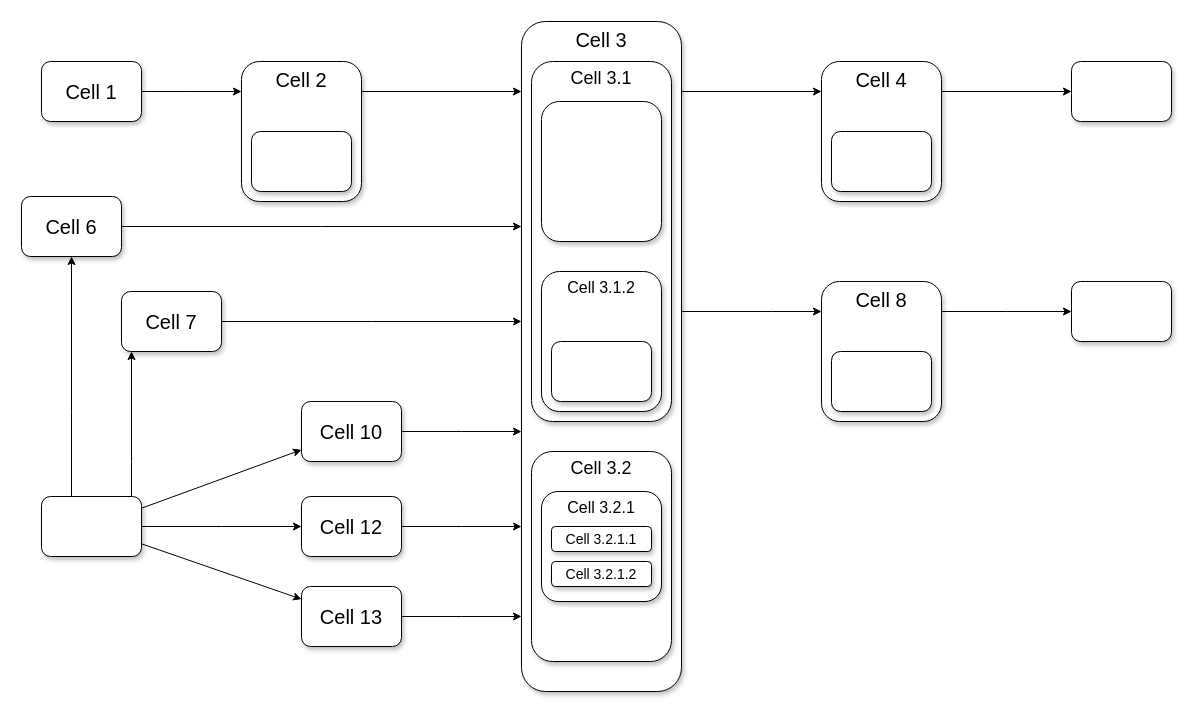
The diagram is 1195 pixels wide and 716 high, and some of its shapes have lost their labels. Here are the shapes that lost their labels. From the top down, the centre of each, then its label:
At [1122,92]: "Cell 5".
At [302,162]: "Cell 2.1".
At [602,172]: "Cell 3.1.1".
At [882,162]: "Cell 4.1".
At [1122,312]: "Cell 9".
At [602,372]: "Cell 3.1.2.1".
At [882,382]: "Cell 8.1".
At [92,528]: "Cell 11".
